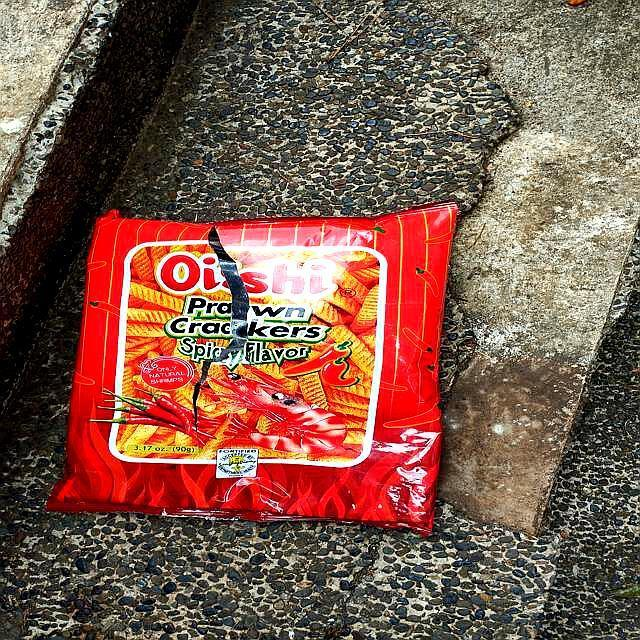Non-biodegradable: (55, 205, 459, 537)
